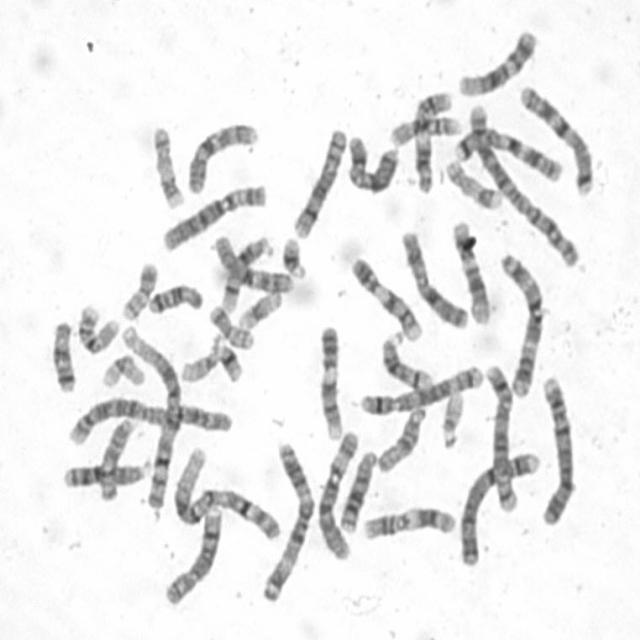A1: (118, 314, 184, 511), (167, 439, 284, 542)
A2: (459, 98, 582, 269), (60, 389, 235, 446)
A3: (255, 434, 317, 604), (494, 243, 547, 399)
B4: (453, 443, 541, 568), (534, 368, 577, 526)
B5: (354, 357, 486, 417), (479, 356, 520, 514)
C10: (182, 115, 260, 195), (208, 227, 296, 295)
C11: (408, 83, 454, 193), (356, 499, 459, 542)
C12: (453, 22, 539, 98), (447, 214, 492, 326)
C6: (156, 175, 270, 253), (312, 423, 362, 563)
C7: (513, 78, 597, 197), (449, 122, 566, 184)
C8: (287, 121, 349, 240), (159, 499, 224, 608)
C9: (345, 250, 425, 343), (313, 318, 345, 443)
D13: (333, 442, 378, 534), (58, 451, 154, 490)
D14: (216, 229, 274, 314), (375, 325, 435, 392)
D15: (371, 398, 429, 474), (92, 408, 137, 502)
E16: (384, 107, 464, 148), (71, 296, 121, 355)
E17: (439, 152, 504, 212), (147, 117, 186, 210)
E18: (45, 313, 78, 394), (143, 275, 205, 316)
F19: (233, 284, 284, 331), (96, 348, 148, 389)
F20: (116, 255, 160, 322), (203, 297, 254, 350)
G21: (209, 330, 245, 384), (276, 229, 308, 280)
G22: (175, 337, 221, 384), (436, 385, 467, 451)
X: (396, 223, 470, 330), (341, 126, 401, 195)
